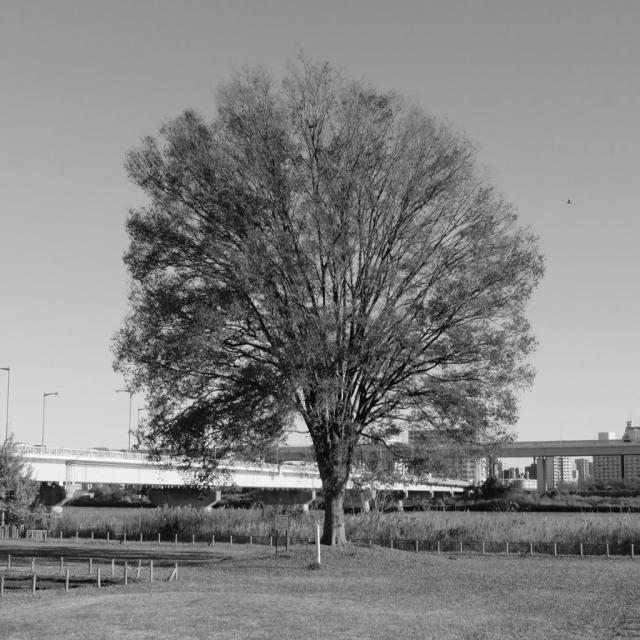zelkova: (108, 41, 548, 547)
